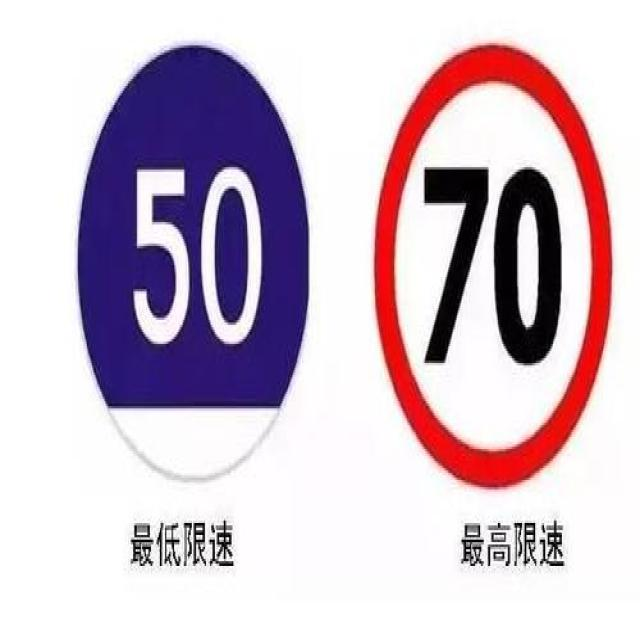speed limit 50: (76, 44, 309, 481)
speed limit 70: (374, 45, 612, 488)
